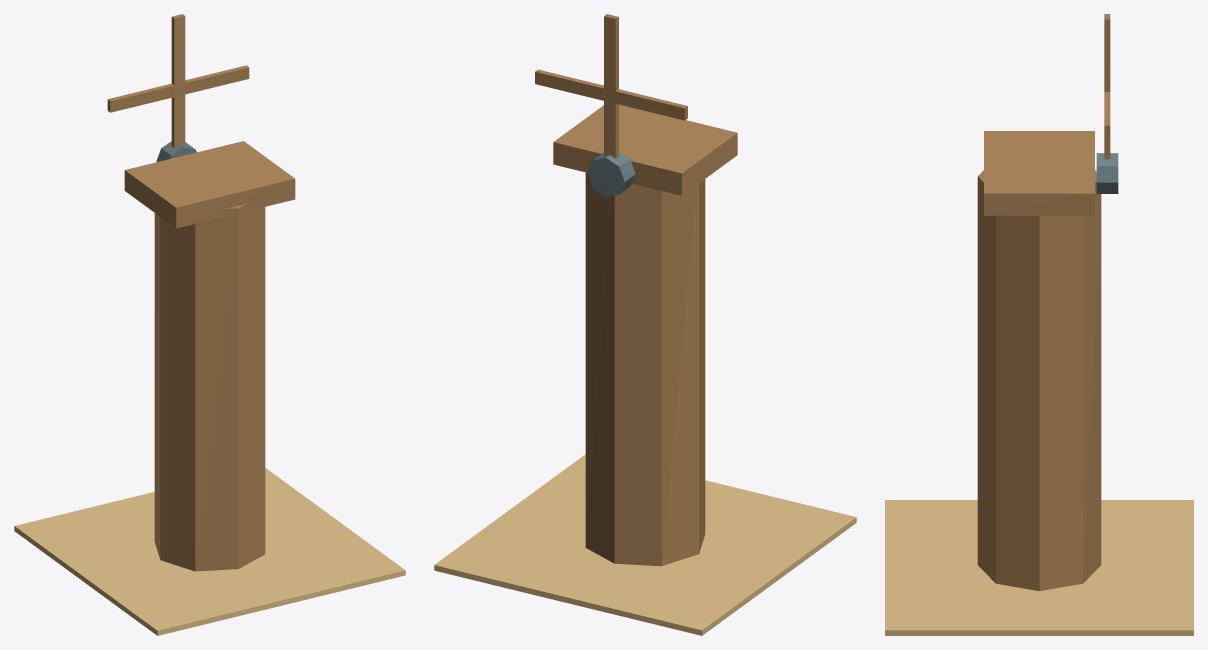
Rendered from giant-windmill.glb.
3 renders of one model, left to right at view 1: azimuth 30°, elevation 25°; view 2: azimuth 150°, elevation 25°; view 3: azimuth 270°, elevation 25°, orthographic. The views are drawn at different scales.
Visible parts, largest first — view 1: giant-windmill-static-mill-timber, giant-windmill-static-mill-earth, giant-windmill-static-mill-teal, giant-windmill-static-mill-sail; view 2: giant-windmill-static-mill-timber, giant-windmill-static-mill-earth, giant-windmill-static-mill-teal, giant-windmill-static-mill-sail, giant-windmill-static-mill-metal; view 3: giant-windmill-static-mill-timber, giant-windmill-static-mill-earth, giant-windmill-static-mill-teal, giant-windmill-static-mill-sail, giant-windmill-static-mill-metal.
Boxes of the visible parts, bbox=[...] form: giant-windmill-static-mill-timber: bbox=[154, 203, 265, 571]; giant-windmill-static-mill-earth: bbox=[14, 468, 405, 635]; giant-windmill-static-mill-teal: bbox=[124, 141, 295, 228]; giant-windmill-static-mill-sail: bbox=[107, 14, 249, 147]; giant-windmill-static-mill-timber: bbox=[585, 172, 705, 566]; giant-windmill-static-mill-earth: bbox=[434, 454, 856, 635]; giant-windmill-static-mill-teal: bbox=[553, 104, 737, 195]; giant-windmill-static-mill-sail: bbox=[535, 14, 687, 158]; giant-windmill-static-mill-metal: bbox=[587, 151, 635, 196]; giant-windmill-static-mill-timber: bbox=[977, 170, 1101, 591]; giant-windmill-static-mill-earth: bbox=[885, 500, 1193, 635]; giant-windmill-static-mill-teal: bbox=[984, 131, 1094, 215]; giant-windmill-static-mill-sail: bbox=[1104, 14, 1110, 159]; giant-windmill-static-mill-metal: bbox=[1096, 153, 1118, 193].
Bounding box in the file's own units: 5 × 9.9 × 5.
